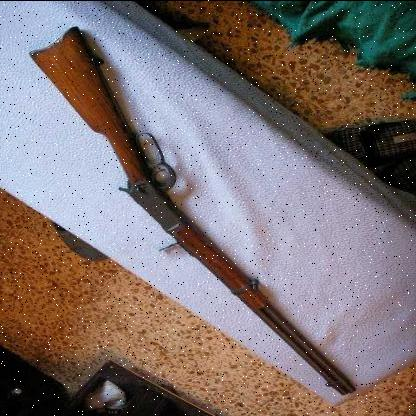rifle: (15, 12, 367, 400)
